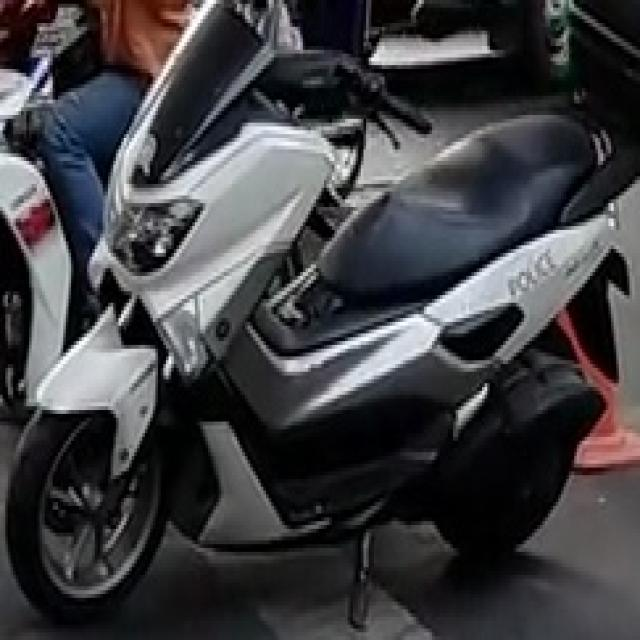door: (0, 0, 637, 624)
tyre: (2, 402, 168, 621)
